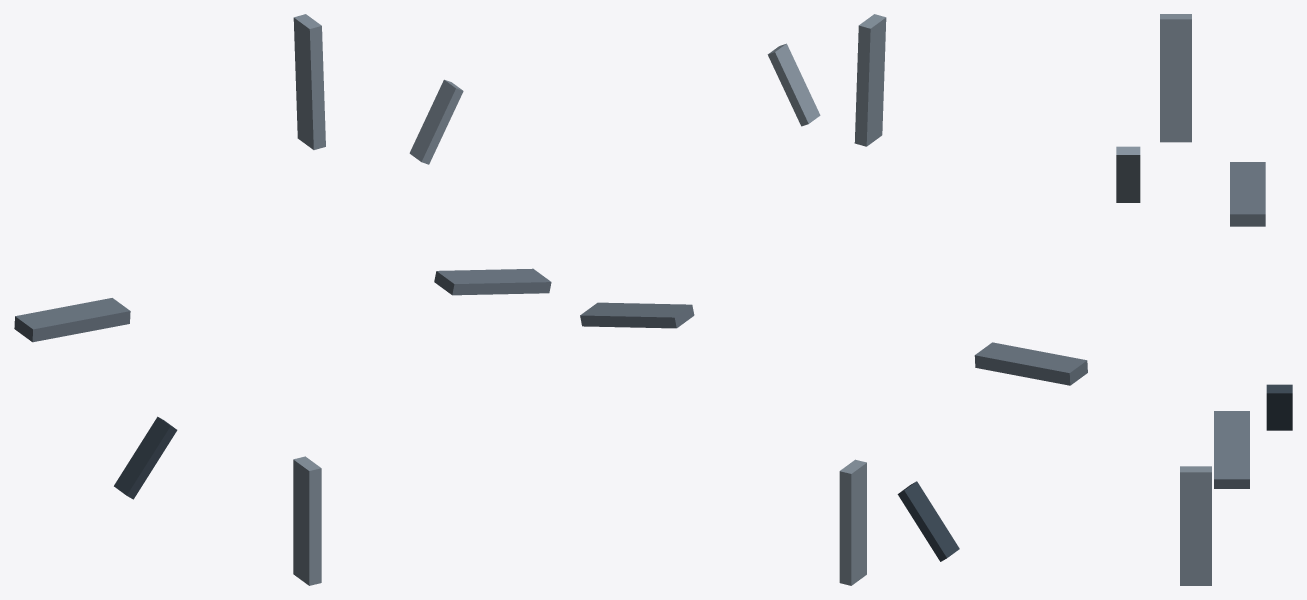
Rendered from ev_core_r10dp_depth_vanes.glb.
The picture shows the model from 3 angles, left to right: view 1: azimuth 30°, elevation 25°; view 2: azimuth 150°, elevation 25°; view 3: azimuth 270°, elevation 25°; orthographic projection. The views are drawn at different scales.
Visible parts, largest first — view 1: vane_0, vane_2, vane_1, vane_3, vane_5, vane_4; view 2: vane_0, vane_2, vane_1, vane_3, vane_5, vane_4; view 3: vane_0, vane_2, vane_3, vane_1, vane_4, vane_5.
Part boxes in pixels (x1,y1,x2,y2): vane_0: [293, 14, 325, 149]; vane_2: [293, 456, 321, 585]; vane_1: [14, 298, 130, 342]; vane_3: [434, 268, 551, 295]; vane_5: [114, 416, 177, 499]; vane_4: [409, 79, 463, 164]; vane_0: [854, 14, 886, 146]; vane_2: [839, 459, 866, 585]; vane_1: [974, 342, 1087, 385]; vane_3: [580, 302, 694, 328]; vane_5: [897, 481, 959, 561]; vane_4: [767, 43, 820, 126]; vane_0: [1160, 14, 1191, 142]; vane_2: [1180, 466, 1211, 585]; vane_3: [1214, 411, 1249, 488]; vane_1: [1230, 162, 1265, 226]; vane_4: [1116, 146, 1140, 202]; vane_5: [1266, 384, 1292, 430].
Size of the model in its own units: 293 by 311 by 88.5.
